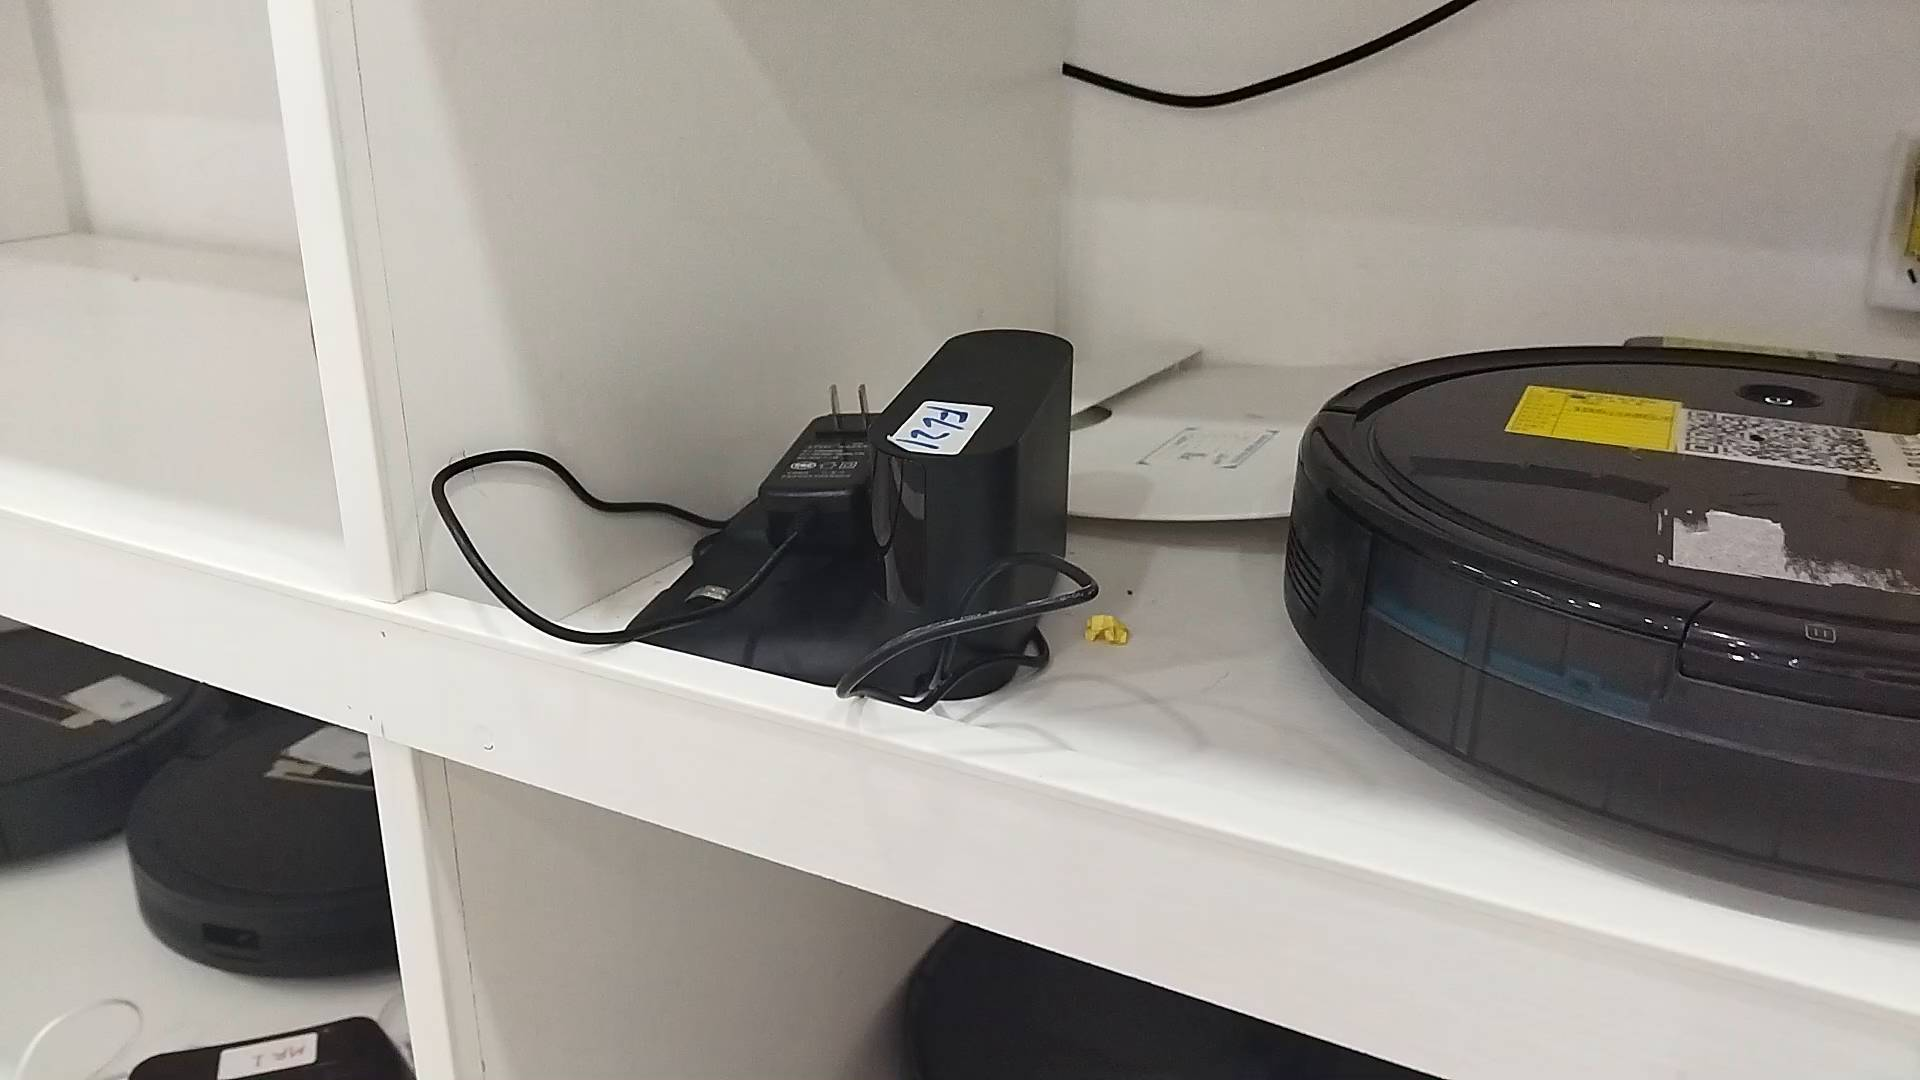recharge seat: (629, 330, 1080, 702)
